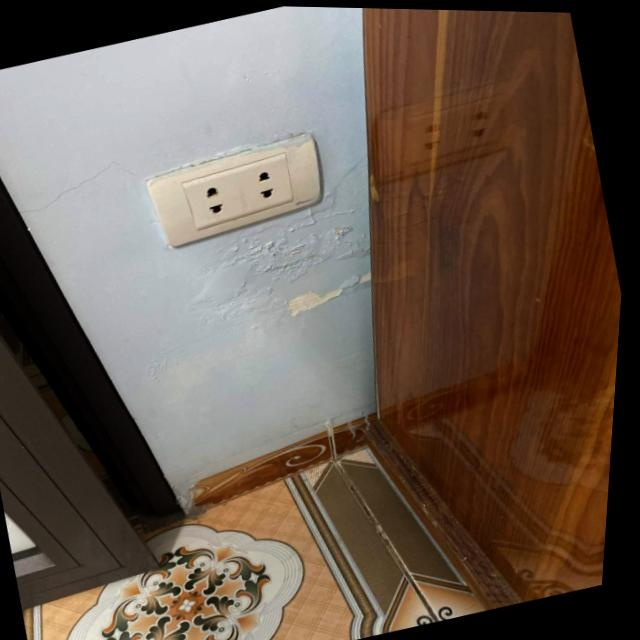outlet: (136, 125, 334, 255)
